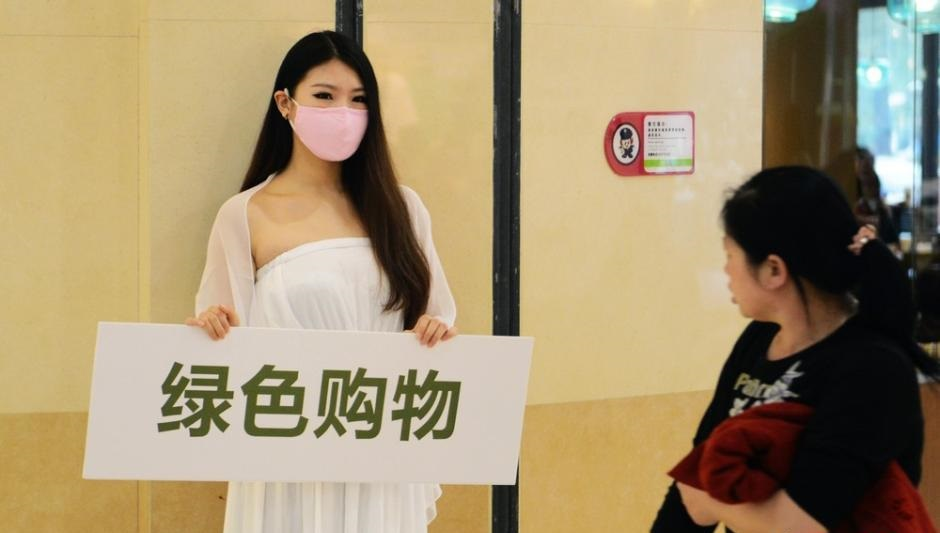face: (721, 230, 762, 318)
face_mask: (296, 65, 367, 162)
